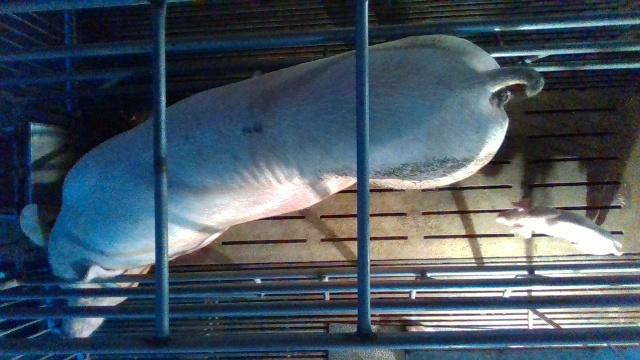piglet: (497, 198, 624, 255)
sow-stand-feed: (17, 32, 545, 339)
